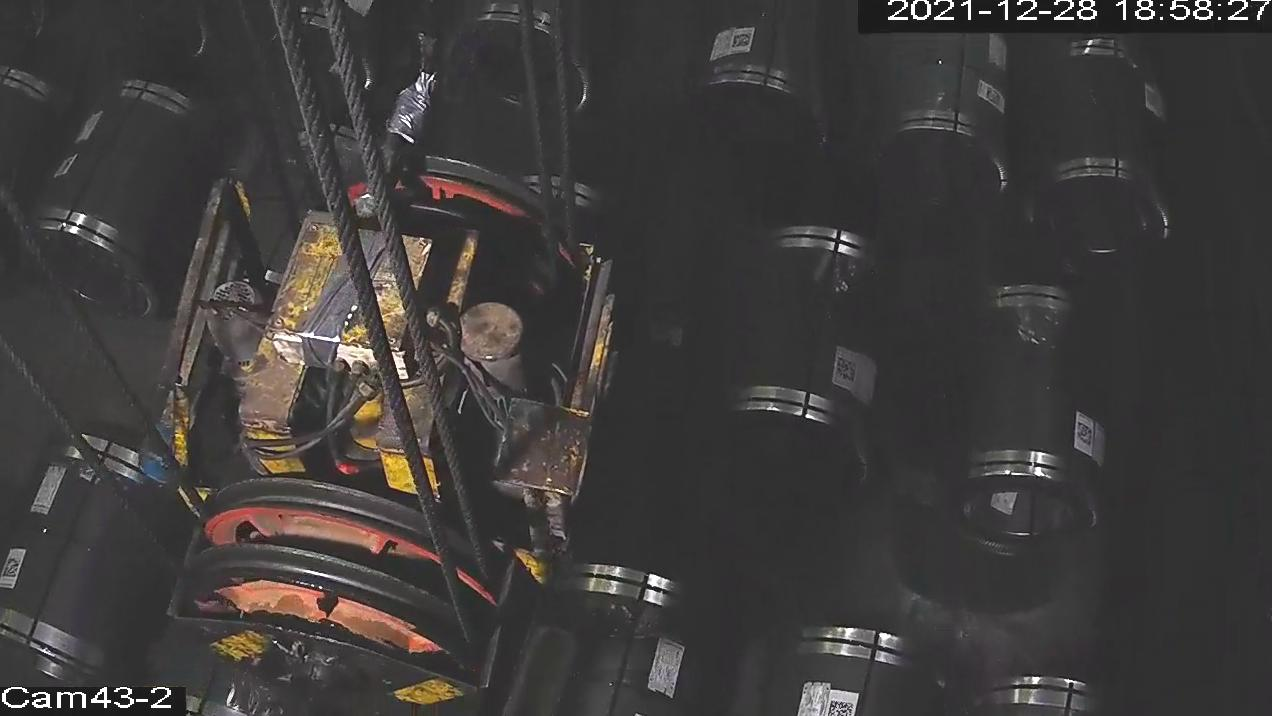data matrix: (834, 356, 859, 386), (1, 555, 27, 580), (1074, 421, 1096, 450), (732, 31, 755, 51), (986, 85, 1003, 108)
